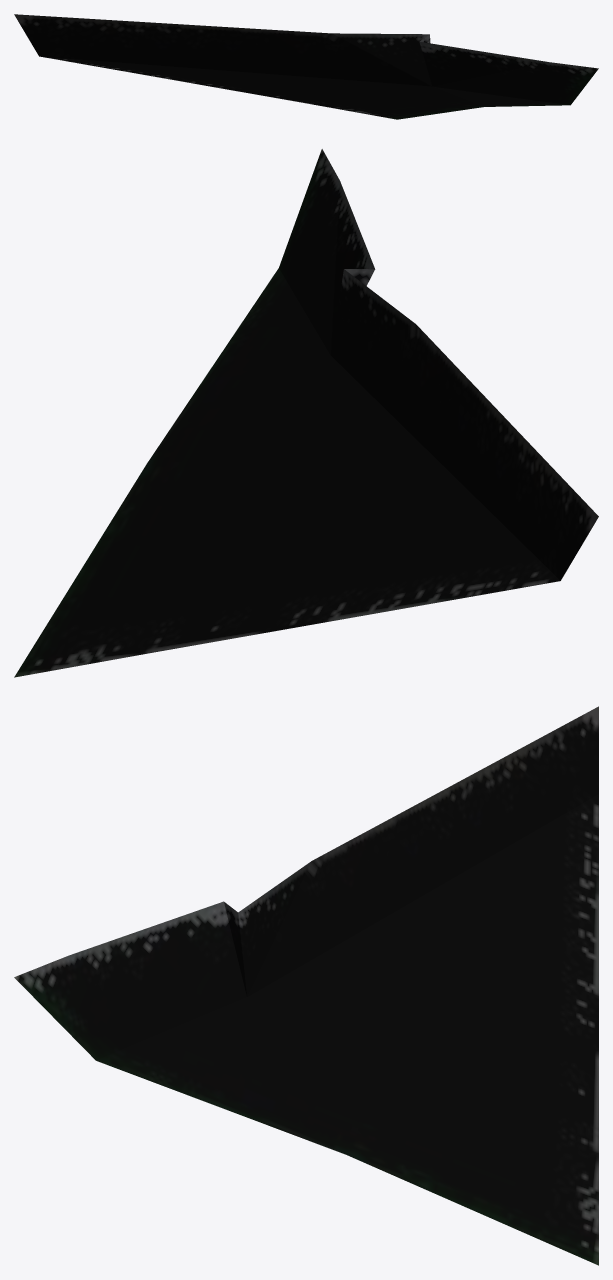
3 views of the same model, one above another, from view 1: azimuth 30°, elevation 25°; view 2: azimuth 150°, elevation 25°; view 3: azimuth 270°, elevation 25° (orthographic). The views are drawn at different scales.
Bounding box in the file's own units: 0.9099 × 0.4514 × 0.8299.
1 material, 1 textured.
